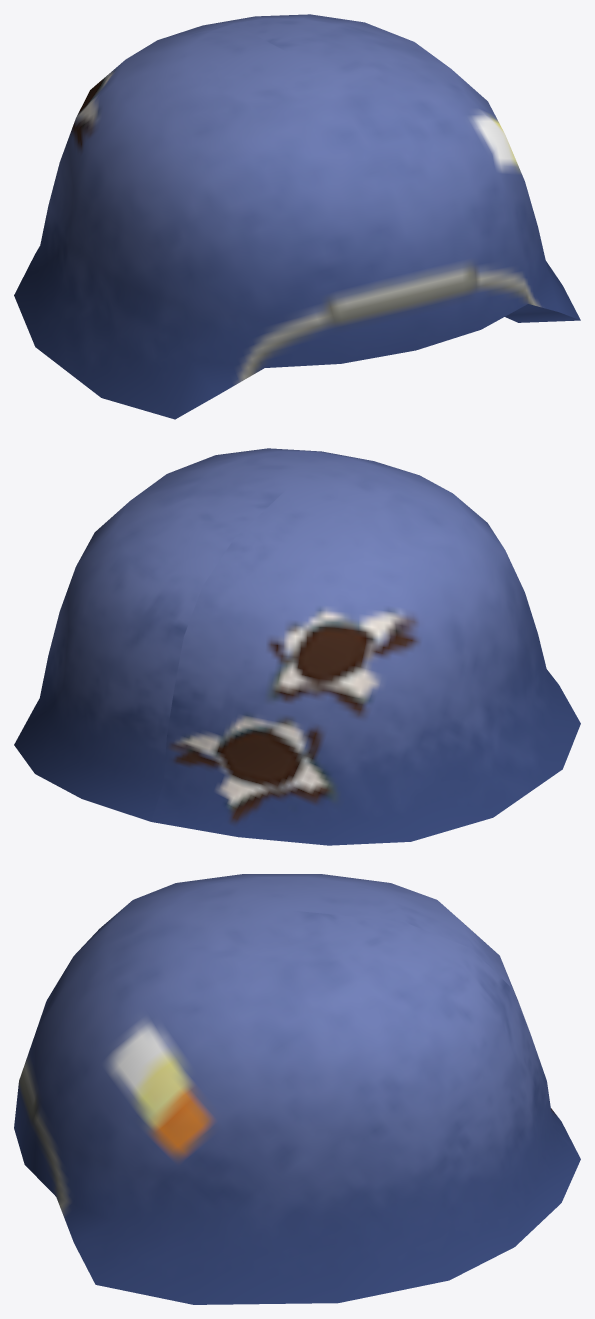
The model's file is top_acc_02.FBX.
3 views of the same model, one above another, from view 1: azimuth 30°, elevation 25°; view 2: azimuth 150°, elevation 25°; view 3: azimuth 270°, elevation 25° (orthographic). The views are drawn at different scales.
Visible parts, largest first — view 1: top_acc_02; view 2: top_acc_02; view 3: top_acc_02.
Part boxes in pixels (x1,y1,x2,y2): top_acc_02: (14, 14, 580, 419); top_acc_02: (14, 448, 580, 845); top_acc_02: (14, 874, 580, 1304).
Bounding box in the file's own units: 31.11 × 16.72 × 30.98.
